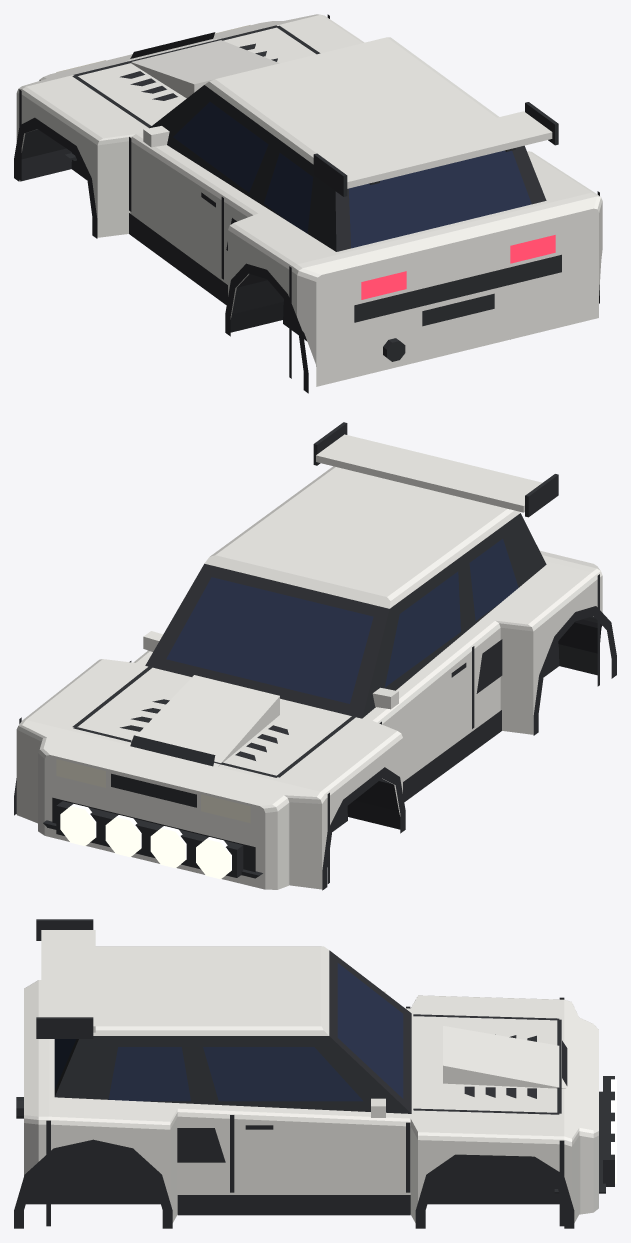
The model's file is Fauve.fbx.
3 renders of one model, top to bottom at view 1: azimuth 30°, elevation 25°; view 2: azimuth 150°, elevation 25°; view 3: azimuth 270°, elevation 25°, orthographic. The views are drawn at different scales.
Visible parts, largest first — view 1: BumperRear, Roof, RearWindow, Hood, Door_FL, Pillars, Opt_Wing_Rally_WingBlade, Cowl, Fender_FL, Window_FL, Opt_Hood_Scoop_HoodScoop, Underbody (+15 smaller); view 2: Roof, BumperFront, Windshield, Hood, Pillars, Fender_RL, Opt_Hood_Scoop_HoodScoop, Opt_Wing_Rally_WingBlade, Door_FL, Opt_Bumper_Lamps_RallyLamp, Cowl, Window_FL (+16 smaller); view 3: Roof, Hood, Door_FR, Pillars, WheelWell, Fender_RR, Window_FR, BumperFront, Opt_Hood_Scoop_HoodScoop, Windshield, Rocker_R, Opt_Wing_Rally_WingBlade (+14 smaller).
Boxes of the visible parts, x1,y1,x2,y2 form: BumperRear: (293,193,602,386); Roof: (204,37,498,164); RearWindow: (348,150,531,248); Hood: (26,15,362,138); Door_FL: (130,134,230,282); Pillars: (149,85,546,251); Opt_Wing_Rally_WingBlade: (326,111,552,188); Cowl: (136,132,591,264); Fender_FL: (21,87,135,237); Window_FL: (173,102,268,192); Opt_Hood_Scoop_HoodScoop: (127,38,279,98); Underbody: (20,129,283,332); Roof: (204,466,520,608); BumperFront: (16,720,325,889); Windshield: (166,577,373,703); Hood: (26,659,396,791); Pillars: (145,513,546,718); Fender_RL: (468,571,597,734); Opt_Hood_Scoop_HoodScoop: (127,675,279,767); Opt_Wing_Rally_WingBlade: (316,434,542,512); Door_FL: (373,643,473,781); Opt_Bumper_Lamps_RallyLamp: (60,804,231,879); Cowl: (136,561,591,720); Window_FL: (385,571,460,687); Roof: (93,946,329,1035); Hood: (410,995,564,1136); Door_FR: (229,1111,410,1194); Pillars: (54,950,411,1113); WheelWell: (26,1148,559,1204); Fender_RR: (46,1108,229,1222); Window_FR: (203,1047,363,1101); BumperFront: (564,999,598,1222); Opt_Hood_Scoop_HoodScoop: (443,1026,566,1088); Windshield: (337,963,403,1098); Rocker_R: (177,1195,410,1215); Opt_Wing_Rally_WingBlade: (41,930,95,1032).
Bounding box in the file's own units: 682 × 418 × 1216.
